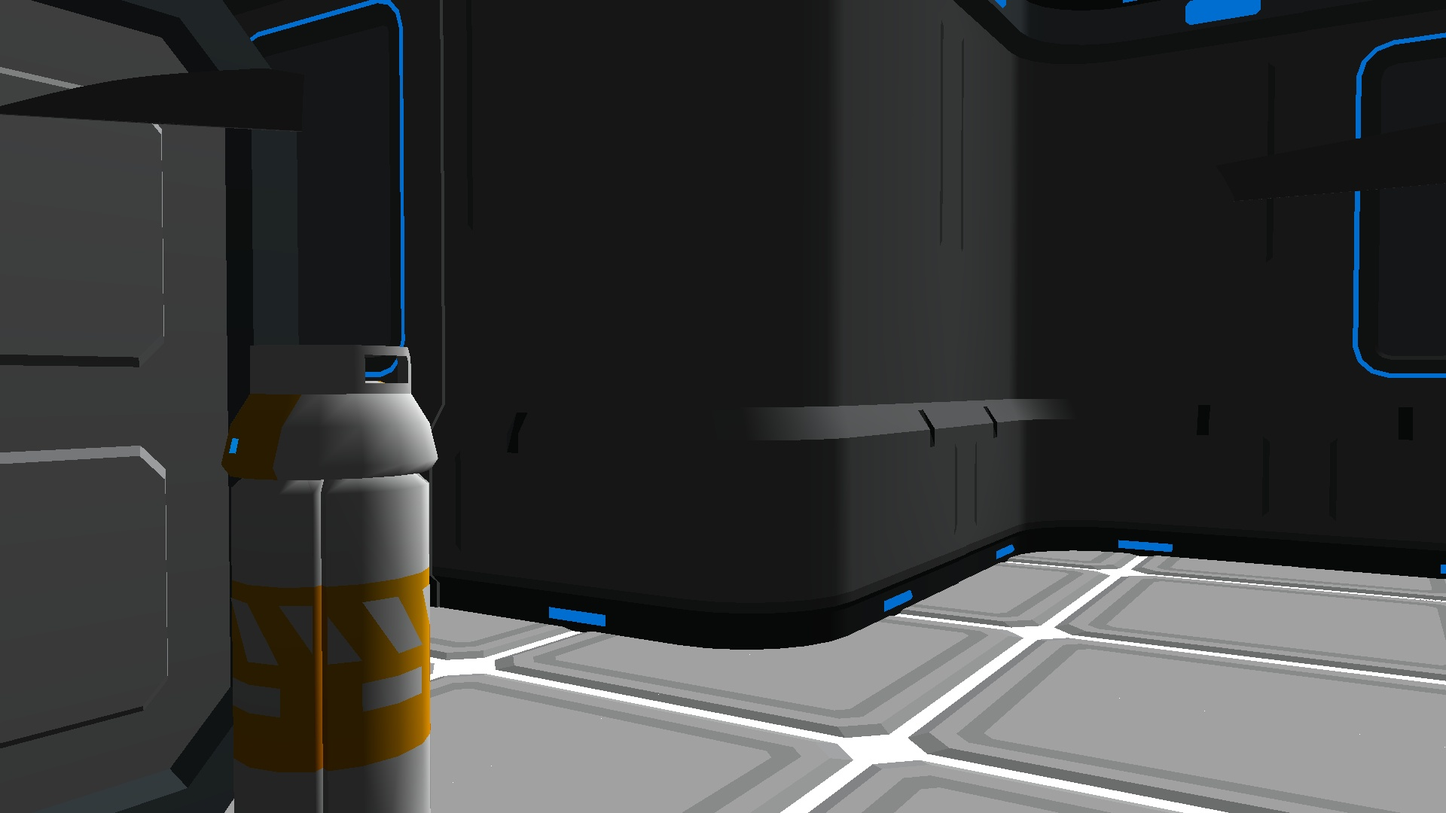yellow barrel: (221, 343, 438, 813)
